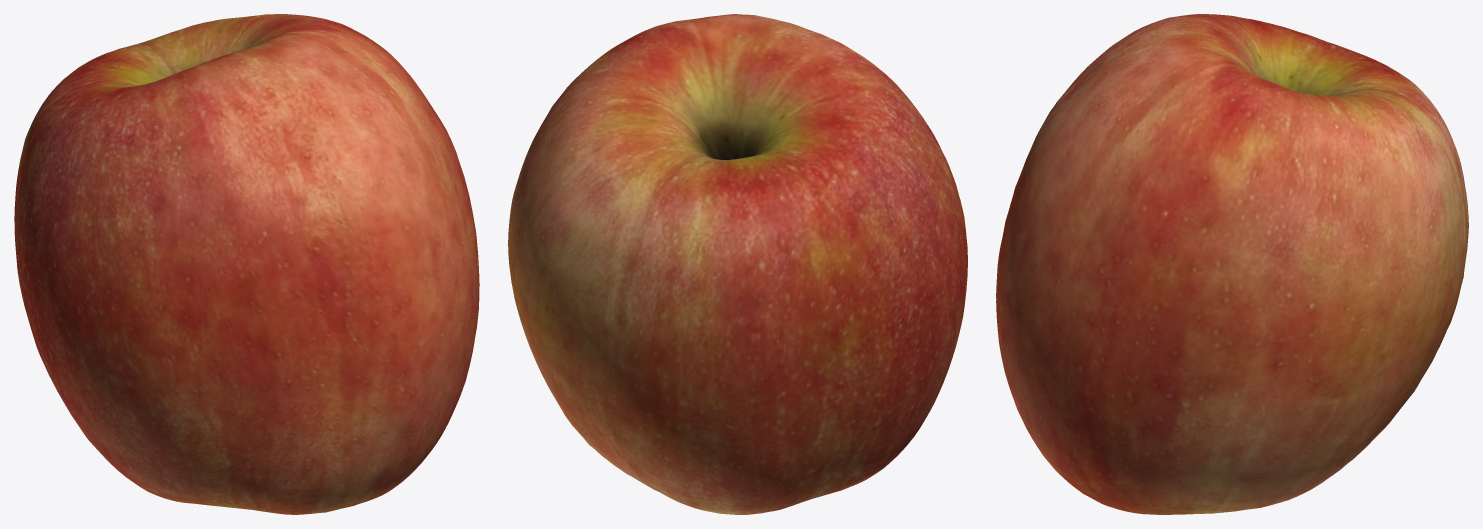
The model's file is food_apple.glb.
3 views of the same model, side by side, from view 1: azimuth 30°, elevation 25°; view 2: azimuth 150°, elevation 25°; view 3: azimuth 270°, elevation 25° (orthographic).
Parts seen in each view (by area): view 1: food_apple; view 2: food_apple; view 3: food_apple.
Part boxes in pixels (x1,y1,x2,y2): food_apple: (14,14,479,514); food_apple: (508,14,967,514); food_apple: (996,14,1468,514).
Bounding box in the file's own units: 0.0754 × 0.078 × 0.0769.
Materials: 1 (1 with a texture image).
